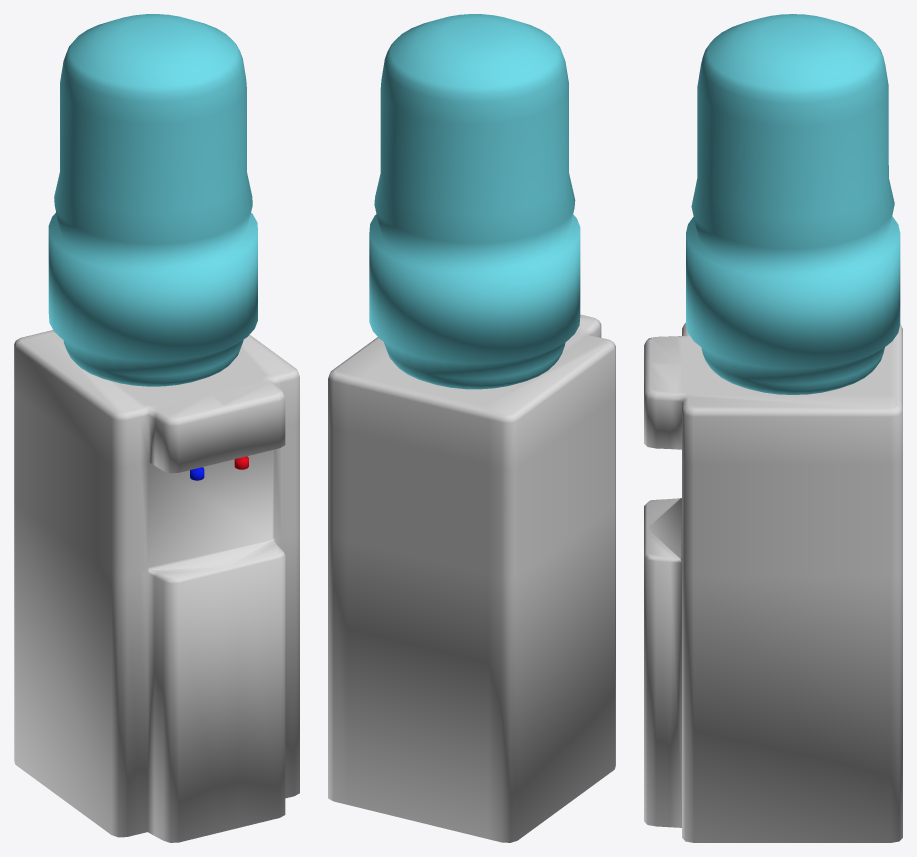
Rendered from WaterCooler.fbx.
3 views of the same model, side by side, from view 1: azimuth 30°, elevation 25°; view 2: azimuth 150°, elevation 25°; view 3: azimuth 270°, elevation 25° (orthographic). The views are drawn at different scales.
Visible parts, largest first — view 1: Cube.054, Cylinder.006; view 2: Cube.054, Cylinder.006; view 3: Cube.054, Cylinder.006.
Part boxes in pixels (box(x1,y1,x2,y2)): Cube.054: box(14, 330, 299, 842); Cylinder.006: box(48, 14, 257, 386); Cube.054: box(328, 314, 615, 842); Cylinder.006: box(369, 14, 580, 389); Cube.054: box(644, 323, 902, 842); Cylinder.006: box(686, 14, 900, 394).
Bounding box in the file's own units: 157 × 596 × 183.
